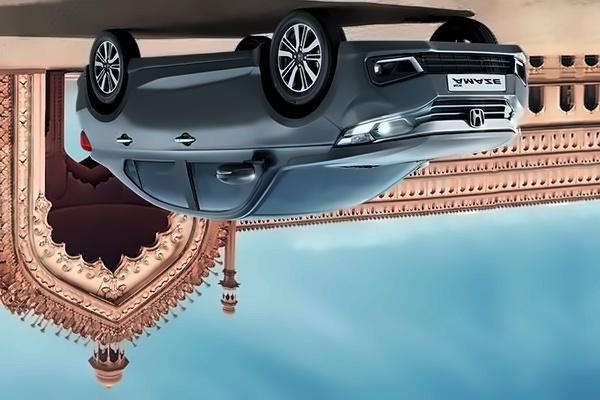Car hood: (289, 130, 518, 169)
Fender - -F-L-: (249, 58, 341, 169)
Fender - -R-L-: (84, 68, 128, 175)
Front bumper: (315, 39, 532, 130)
Headlight - -L-: (332, 110, 420, 149)
Passenger-s door - -F-L-: (174, 48, 279, 223)
Passenger-s door - -R-L-: (111, 53, 189, 217)
Rear light - -L-: (80, 129, 94, 153)
Side bumper - -L-: (124, 36, 269, 90)
Side mirror - -L-: (214, 149, 264, 189)
